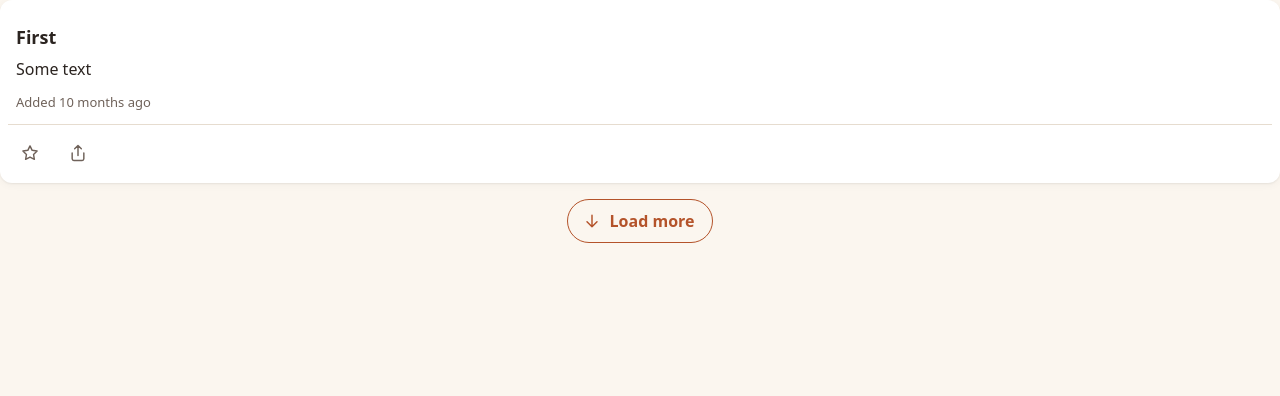
Scenario: ItemList › renders cards and loads the next page on demand
This screenshot has width=1280, height=396.
expect the text "First" is shown: met, box x1=16 y1=25 x2=56 y2=49
Click the button "Load more" at (640, 221), box x1=566 y1=199 x2=713 y2=243
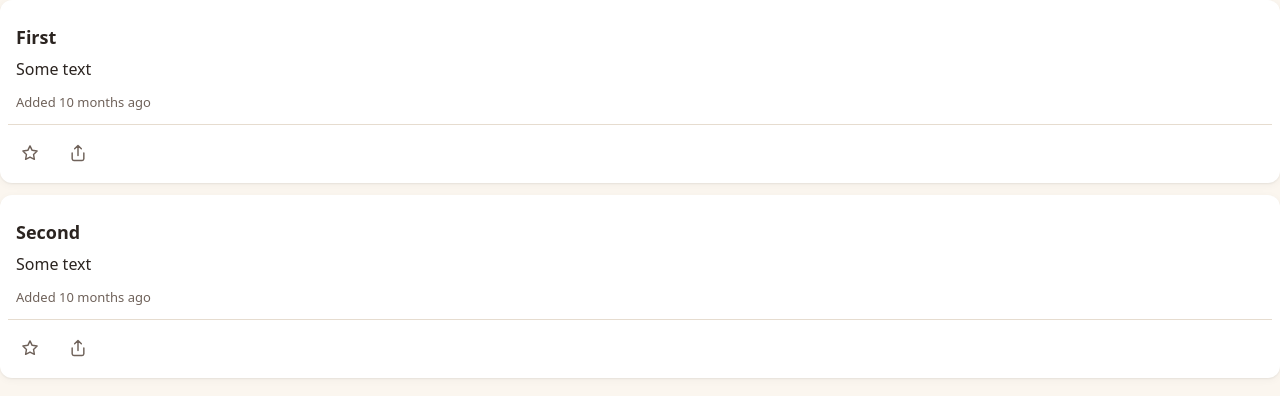
expect the text "Second" is shown: met, box x1=16 y1=220 x2=80 y2=244
expect the button "Load more" is gone: met
